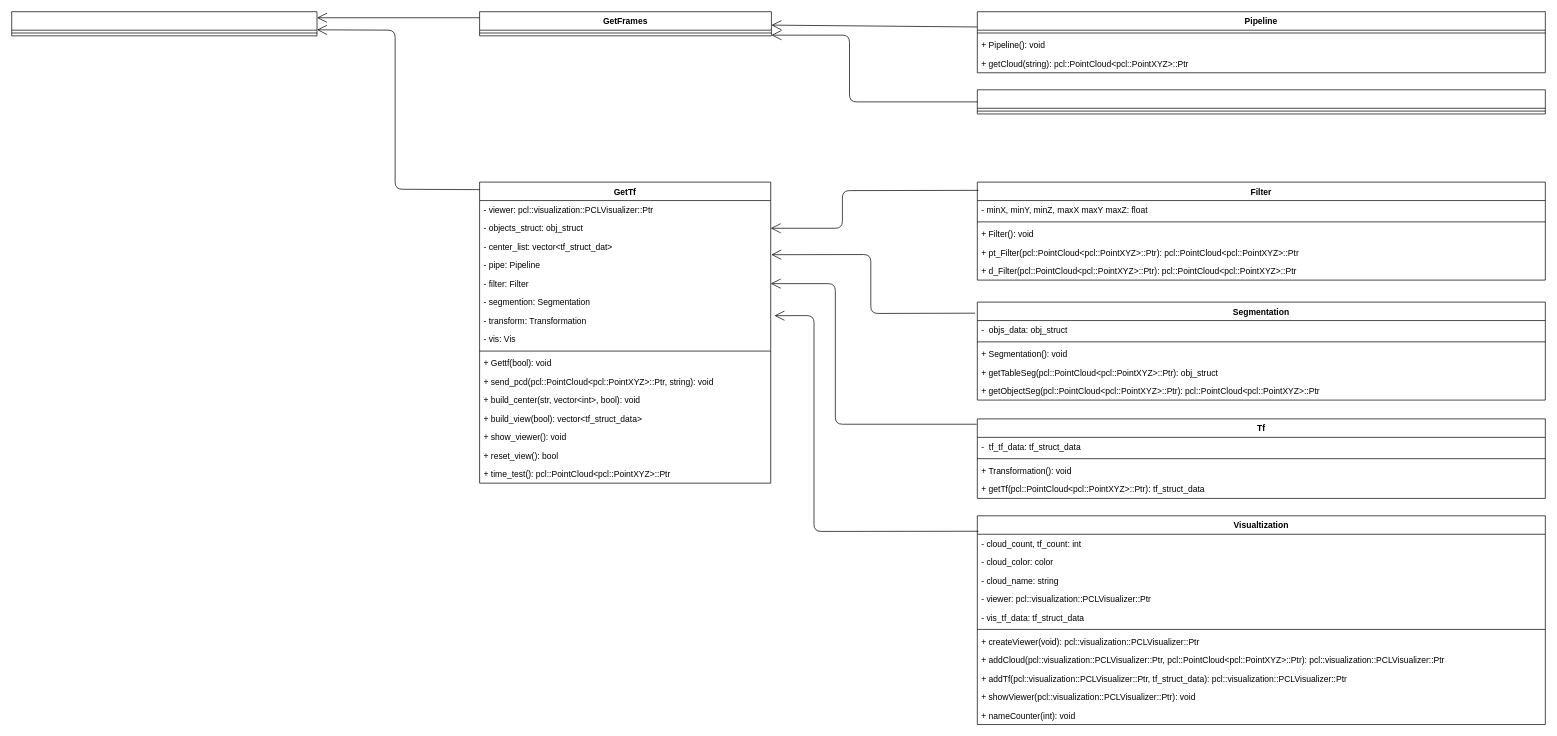
The diagram is 1557 pixels wide and 736 high, and some of its shapes have lost their labels. Each missing label, with the centre of its shape:
"Main" belongs at (x=164, y=23).
"YOLO" belongs at (x=1261, y=101).
